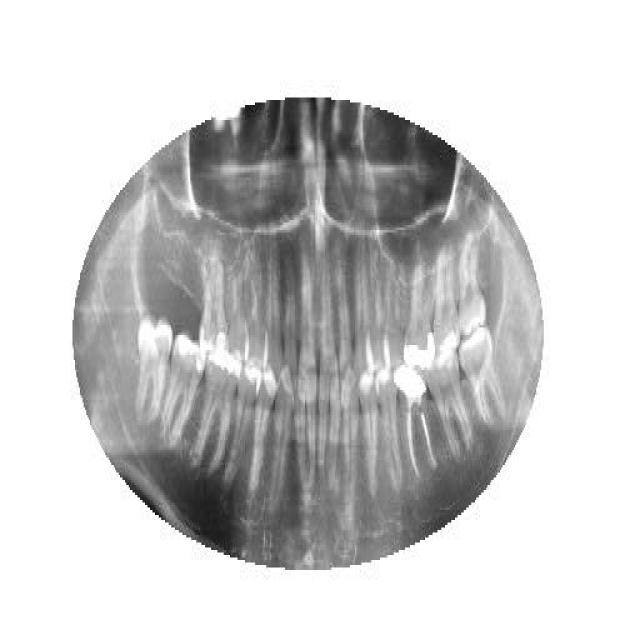Fillings: (194, 350, 240, 475), (160, 332, 206, 450), (403, 260, 438, 368), (198, 262, 230, 352)
Implant: (395, 365, 437, 480)
